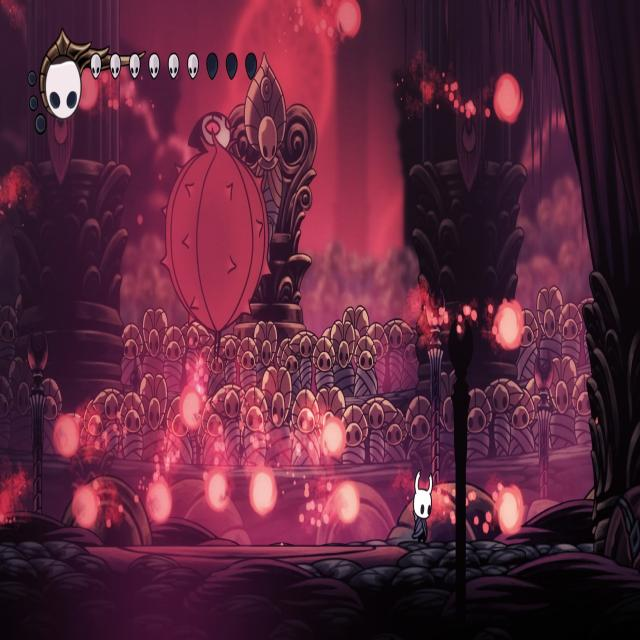Player: (410, 463, 436, 547)
Pufferfish: (156, 104, 270, 360)
Tiny Fireballs: (493, 301, 522, 351), (249, 466, 276, 516), (494, 76, 521, 125), (499, 485, 525, 535), (148, 478, 174, 525), (55, 414, 81, 458), (73, 485, 99, 529), (206, 469, 230, 512), (322, 416, 346, 459), (180, 388, 202, 432), (336, 484, 359, 524), (338, 0, 361, 39)
